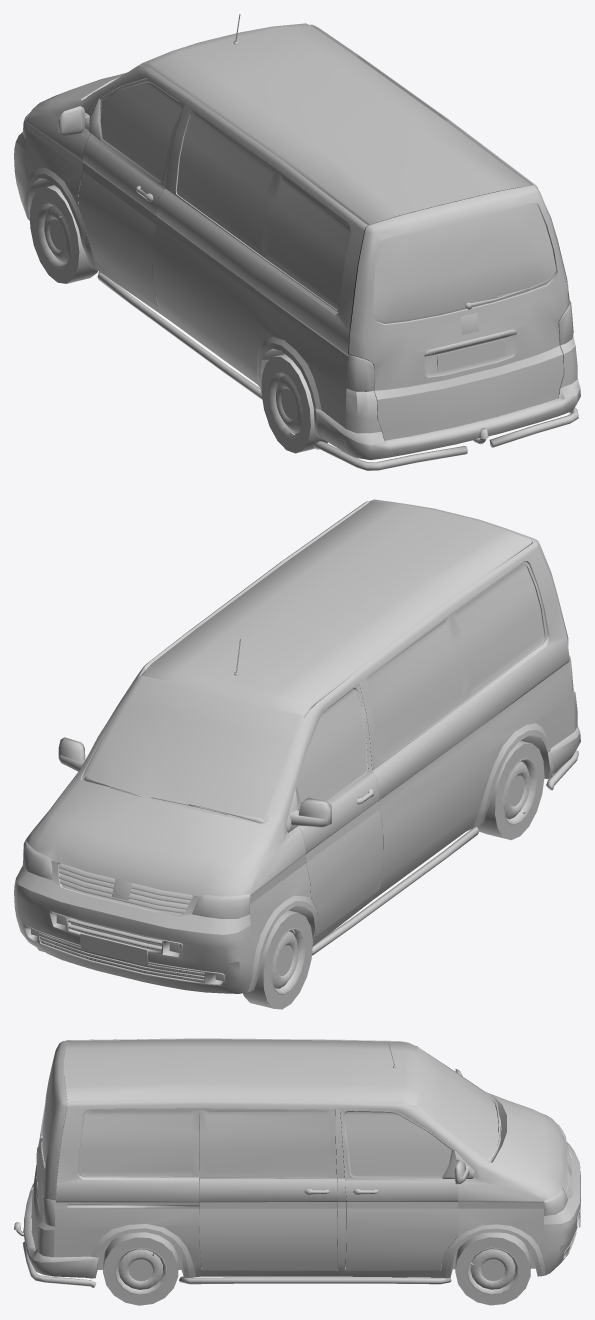
File: Model_Cars_Van_Deliver.fbx
3 views of the same model, one above another, from view 1: azimuth 30°, elevation 25°; view 2: azimuth 150°, elevation 25°; view 3: azimuth 270°, elevation 25° (orthographic). The views are drawn at different scales.
Parts seen in each view (by area): view 1: Car_Body_LOD0, LF_Wheel_LOD0, LB_Wheel_LOD0; view 2: Car_Body_LOD0, LF_Wheel_LOD0, LB_Wheel_LOD0; view 3: Car_Body_LOD0, RB_Wheel_LOD0, RF_Wheel_LOD0.
Part boxes in pixels (left/top/right/bottom): Car_Body_LOD0: left=14, top=14, right=580, bottom=470; LF_Wheel_LOD0: left=30, top=185, right=97, bottom=283; LB_Wheel_LOD0: left=261, top=354, right=327, bottom=453; Car_Body_LOD0: left=14, top=499, right=580, bottom=993; LF_Wheel_LOD0: left=243, top=910, right=312, bottom=1009; LB_Wheel_LOD0: left=478, top=740, right=544, bottom=840; Car_Body_LOD0: left=14, top=1038, right=580, bottom=1287; RB_Wheel_LOD0: left=103, top=1232, right=178, bottom=1305; RF_Wheel_LOD0: left=455, top=1232, right=530, bottom=1305.
Size of what is drawn, in the model's own units: 221 by 225 by 526.
